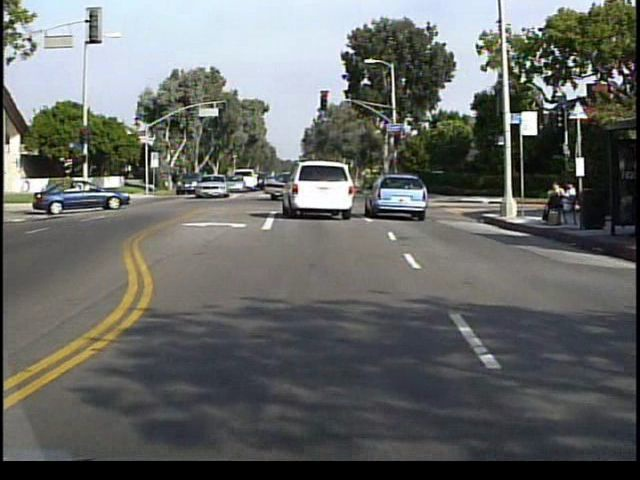person: (541, 178, 566, 224), (561, 179, 578, 225)
